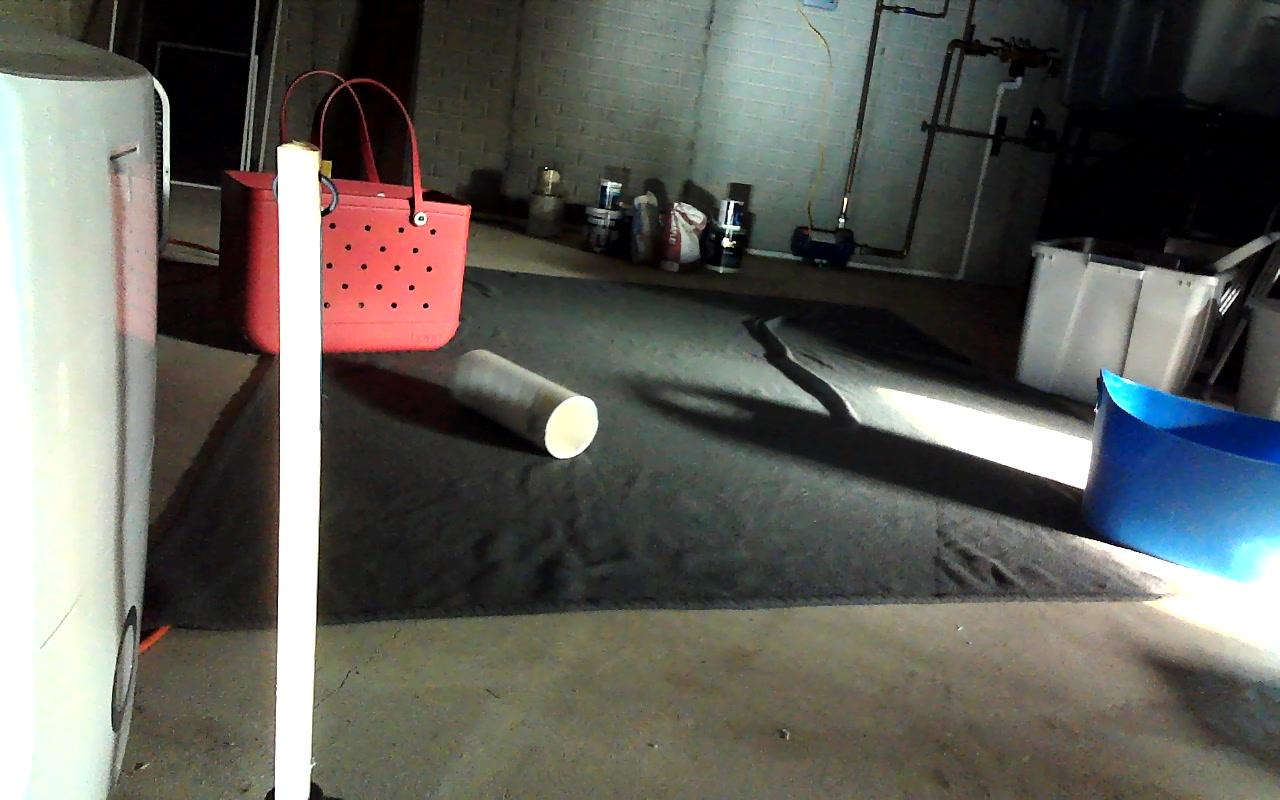coral: (456, 350, 599, 459)
